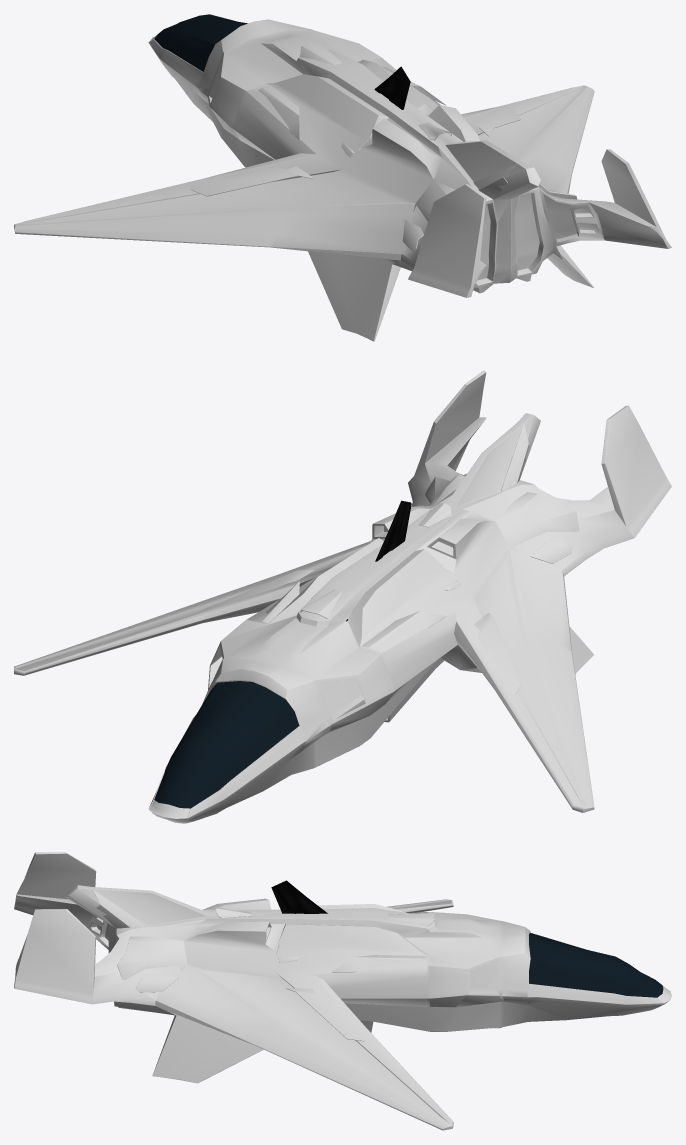
Rendered from blender2.glb.
The picture shows the model from 3 angles, top to bottom: view 1: azimuth 30°, elevation 25°; view 2: azimuth 150°, elevation 25°; view 3: azimuth 270°, elevation 25°; orthographic projection. The views are drawn at different scales.
Parts seen in each view (by area): view 1: Cube.009, Cube.001; view 2: Cube.009, Cube.001; view 3: Cube.009, Cube.001.
Part boxes in pixels (x1,y1,x2,y2): Cube.009: (14,14,671,341); Cube.001: (374,66,410,109); Cube.009: (14,370,671,823); Cube.001: (346,500,411,621); Cube.009: (14,852,671,1130); Cube.001: (271,880,327,913).
Size of what is drawn, in the model's own units: 17.79 by 5.75 by 21.61.
